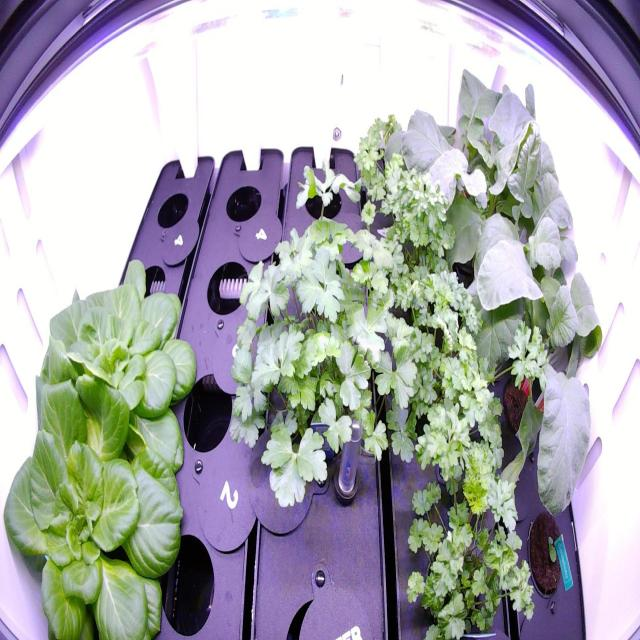empty_pod: (146, 516, 220, 636), (176, 362, 236, 459), (200, 252, 251, 324), (297, 162, 345, 228), (127, 253, 177, 313), (221, 176, 264, 233), (148, 182, 192, 234)
germination: (521, 496, 570, 610)
young: (0, 366, 189, 640), (28, 251, 202, 489)
